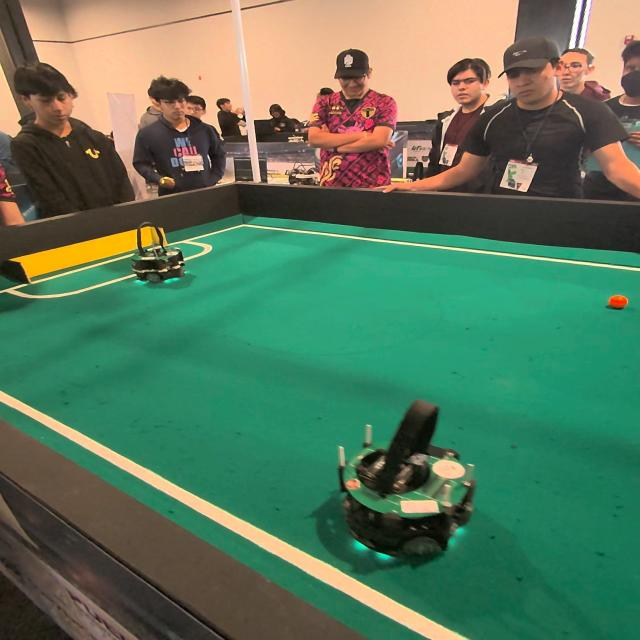Robot: (329, 386, 487, 582), (127, 221, 188, 291)
pelota: (602, 290, 639, 316)
